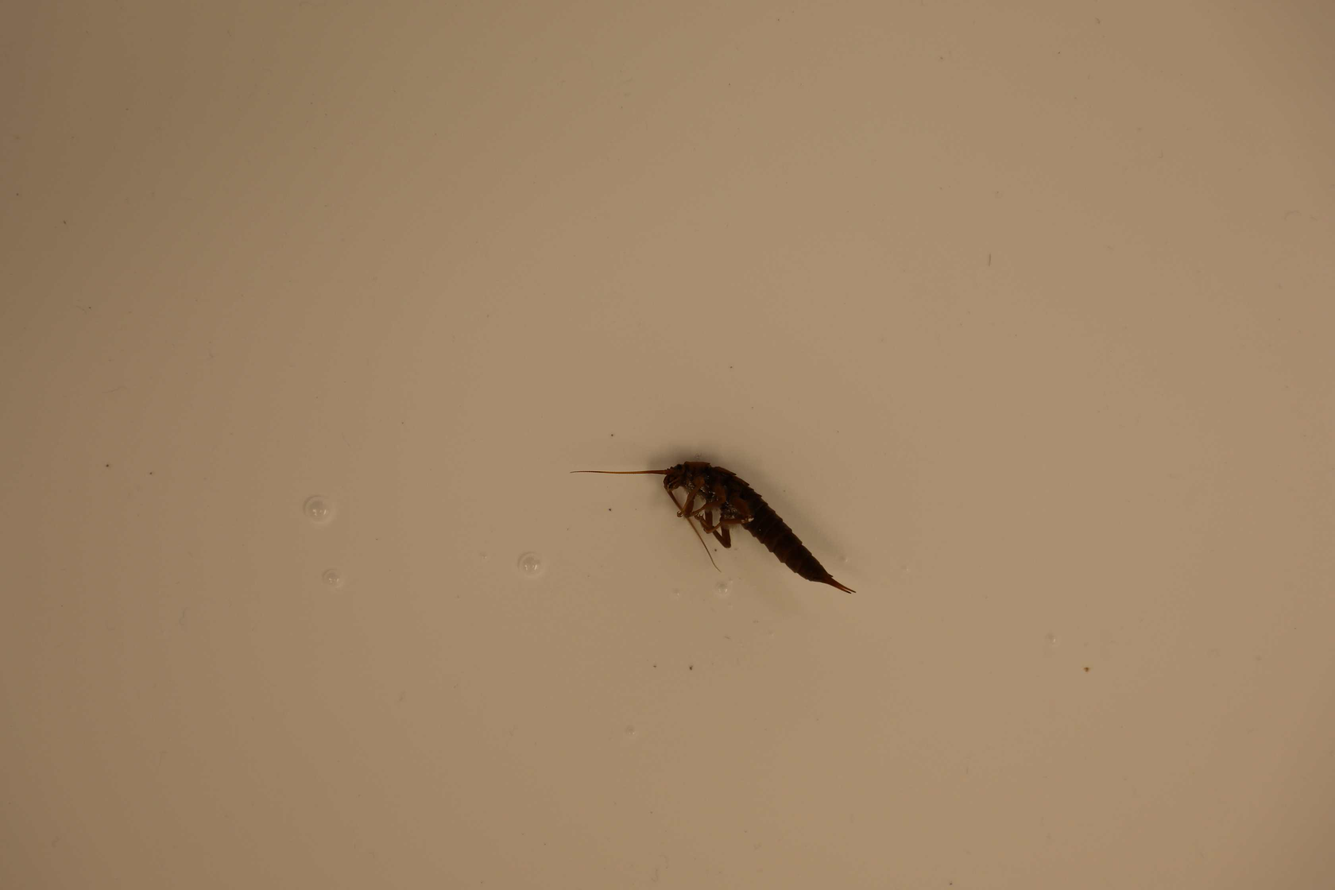Stonefly: (570, 459, 859, 599)
